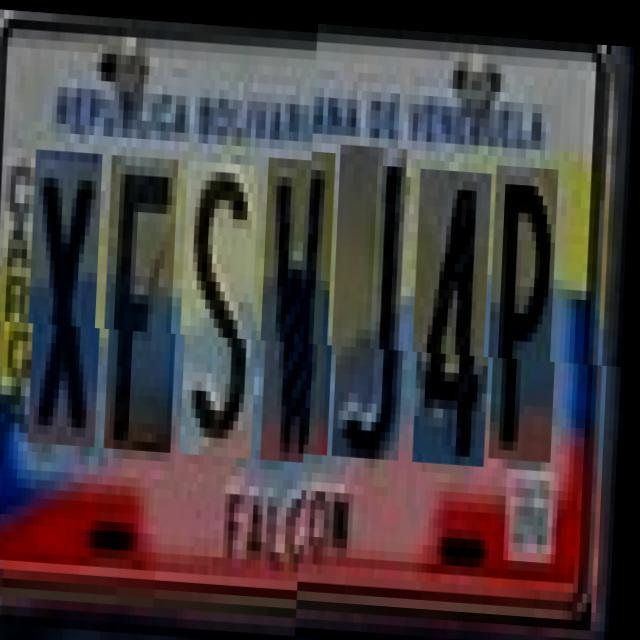4: (417, 171, 498, 468)
F: (108, 153, 185, 450)
J: (336, 148, 412, 464)
P: (492, 167, 564, 463)
S: (184, 158, 265, 454)
W: (264, 154, 342, 458)
X: (32, 149, 109, 445)
